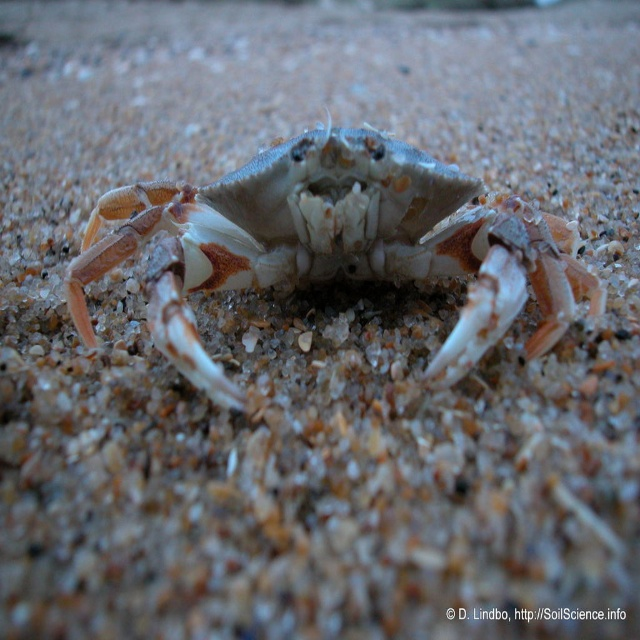Crab: (60, 107, 608, 430)
